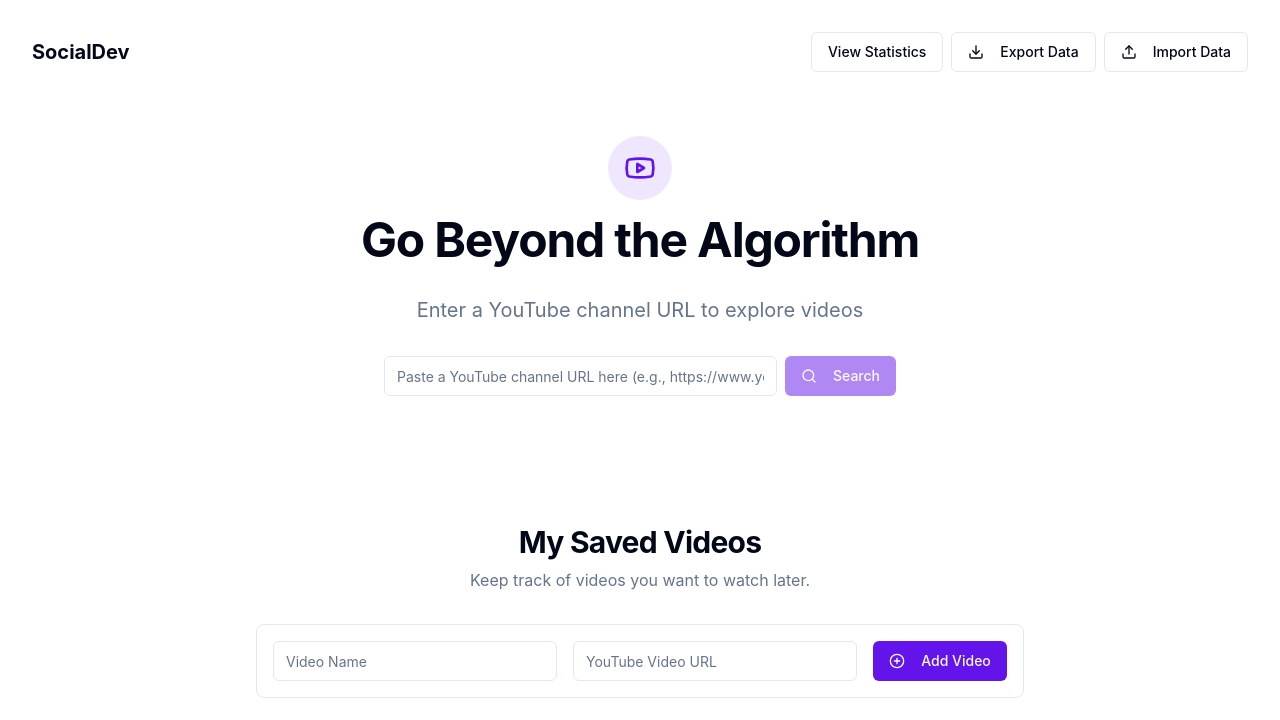
Test: HomePage › the search button is enabled when the input has text
Replace the text in the field with placeholder "Paste a YouTube channel URL here" with "test" at (580,376), box [384,356,777,396]
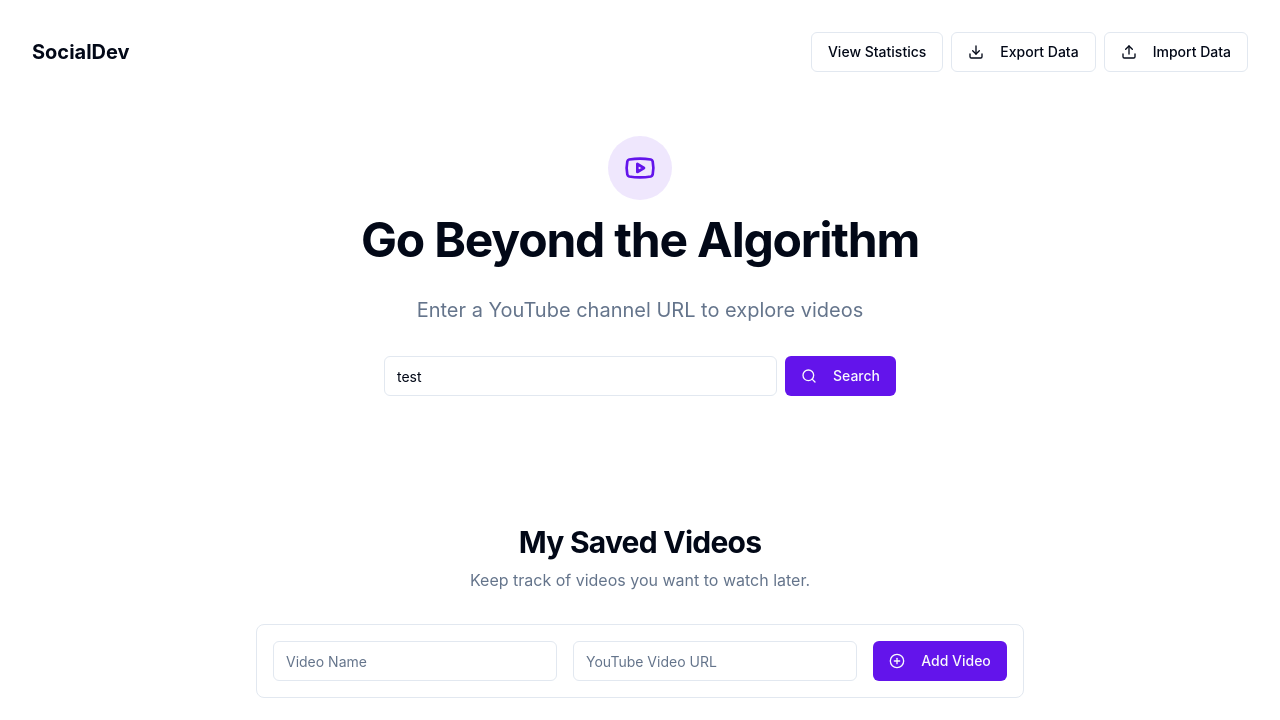
Result: the button "Search" is enabled at [785,356,896,396]
